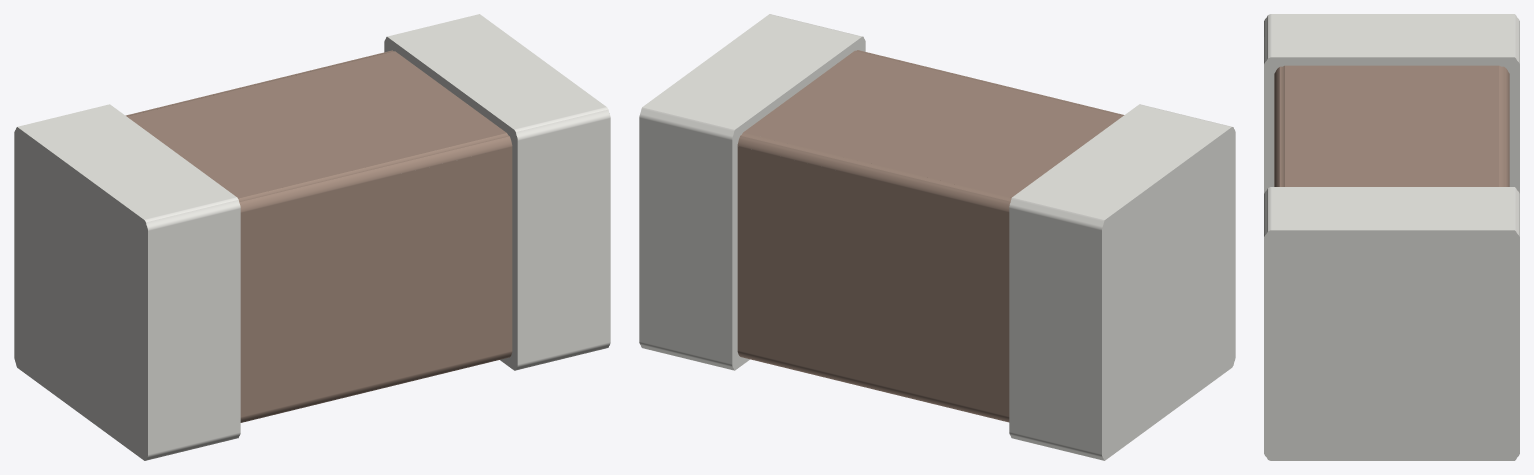
File: C_0402_1005Metric.glb
3 views of the same model, side by side, from view 1: azimuth 30°, elevation 25°; view 2: azimuth 150°, elevation 25°; view 3: azimuth 270°, elevation 25° (orthographic). The views are drawn at different scales.
Parts seen in each view (by area): view 1: Shape_IndexedFaceSet.015, Shape_IndexedFaceSet, Shape_IndexedFaceSet.013, Shape_IndexedFaceSet.023, Shape_IndexedFaceSet.005, Shape_IndexedFaceSet.008, Shape_IndexedFaceSet.026, Shape_IndexedFaceSet.014, Shape_IndexedFaceSet.018, Shape_IndexedFaceSet.016, Shape_IndexedFaceSet.025, Shape_IndexedFaceSet.007; view 2: Shape_IndexedFaceSet.011, Shape_IndexedFaceSet, Shape_IndexedFaceSet.013, Shape_IndexedFaceSet.022, Shape_IndexedFaceSet.004, Shape_IndexedFaceSet.026, Shape_IndexedFaceSet.008, Shape_IndexedFaceSet.012, Shape_IndexedFaceSet.018, Shape_IndexedFaceSet.010, Shape_IndexedFaceSet.006, Shape_IndexedFaceSet.024 (+2 smaller); view 3: Shape_IndexedFaceSet.027, Shape_IndexedFaceSet.013, Shape_IndexedFaceSet.008, Shape_IndexedFaceSet.026, Shape_IndexedFaceSet.009, Shape_IndexedFaceSet.012, Shape_IndexedFaceSet.014, Shape_IndexedFaceSet.006, Shape_IndexedFaceSet.007, Shape_IndexedFaceSet.024, Shape_IndexedFaceSet.025.
Part boxes in pixels (x1,y1,x2,y2): Shape_IndexedFaceSet.015: (240,147,512,416); Shape_IndexedFaceSet: (14,127,147,460); Shape_IndexedFaceSet.013: (127,51,506,198); Shape_IndexedFaceSet.023: (517,118,610,364); Shape_IndexedFaceSet.005: (148,208,240,454); Shape_IndexedFaceSet.008: (20,106,234,218); Shape_IndexedFaceSet.026: (390,16,604,128); Shape_IndexedFaceSet.014: (238,133,512,212); Shape_IndexedFaceSet.018: (384,37,517,370); Shape_IndexedFaceSet.016: (240,351,512,422); Shape_IndexedFaceSet.025: (512,106,610,140); Shape_IndexedFaceSet.007: (143,196,240,230); Shape_IndexedFaceSet.011: (737,146,1009,416); Shape_IndexedFaceSet: (1102,127,1235,460); Shape_IndexedFaceSet.013: (743,51,1122,197); Shape_IndexedFaceSet.022: (639,118,732,363); Shape_IndexedFaceSet.004: (1009,208,1101,454); Shape_IndexedFaceSet.026: (645,15,859,127); Shape_IndexedFaceSet.008: (1015,106,1229,217); Shape_IndexedFaceSet.012: (737,132,1011,212); Shape_IndexedFaceSet.018: (732,36,865,370); Shape_IndexedFaceSet.010: (737,350,1009,422); Shape_IndexedFaceSet.006: (1009,195,1106,230); Shape_IndexedFaceSet.024: (639,105,736,140); Shape_IndexedFaceSet.027: (1264,230,1519,460); Shape_IndexedFaceSet.013: (1285,65,1498,186); Shape_IndexedFaceSet.008: (1274,14,1509,57); Shape_IndexedFaceSet.026: (1274,187,1509,230); Shape_IndexedFaceSet.009: (1264,57,1519,193); Shape_IndexedFaceSet.012: (1499,65,1509,186); Shape_IndexedFaceSet.014: (1274,65,1284,186); Shape_IndexedFaceSet.006: (1509,14,1519,63); Shape_IndexedFaceSet.007: (1264,14,1274,63); Shape_IndexedFaceSet.024: (1509,187,1519,236); Shape_IndexedFaceSet.025: (1264,187,1274,236).
Size of the model in its own units: 0.394 by 0.196 by 0.197.
